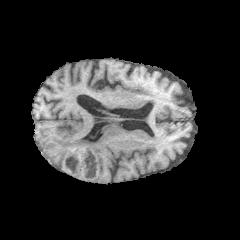glioma: (46, 133, 103, 181)
